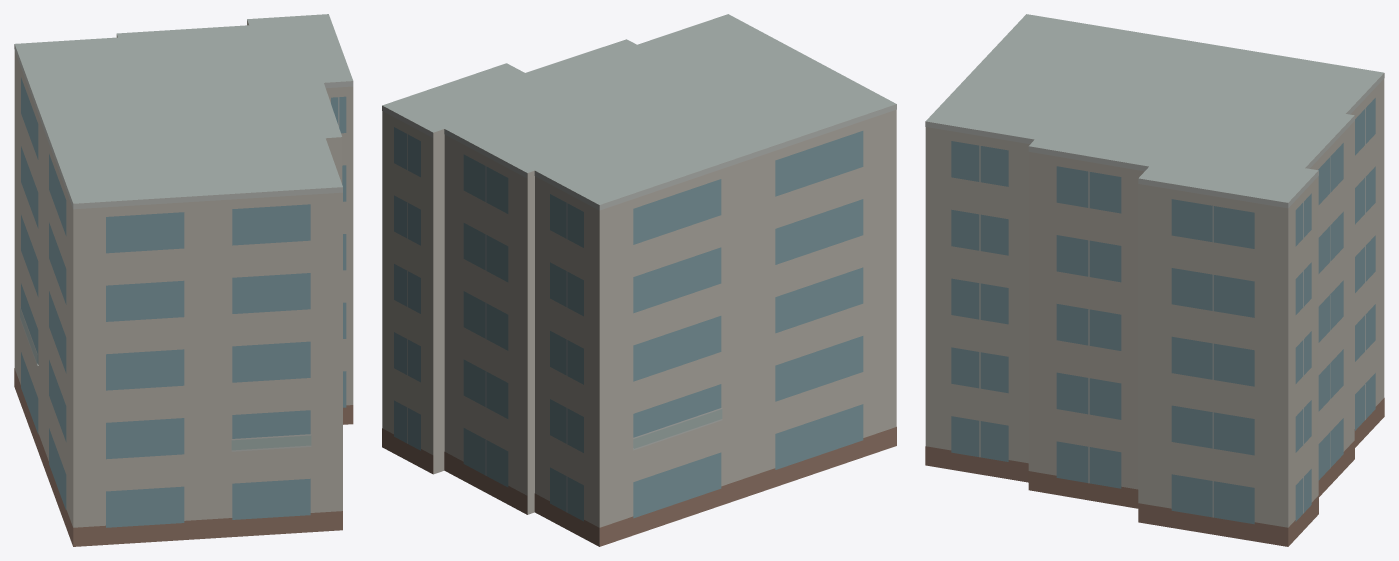
File: survey-upis-33005210.glb
3 renders of one model, left to right at view 1: azimuth 30°, elevation 25°; view 2: azimuth 150°, elevation 25°; view 3: azimuth 270°, elevation 25°, orthographic.
Visible parts, largest first — view 1: survey-upis-33005210.tmp; view 2: survey-upis-33005210.tmp; view 3: survey-upis-33005210.tmp.
Part boxes in pixels (x1=…): survey-upis-33005210.tmp: x1=14, y1=14, x2=353, y2=546; survey-upis-33005210.tmp: x1=382, y1=14, x2=896, y2=546; survey-upis-33005210.tmp: x1=925, y1=14, x2=1384, y2=546.
Bounding box in the file's own units: 17.97 × 15.25 × 18.45.
